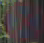No Stopping: (5, 5, 41, 40)
